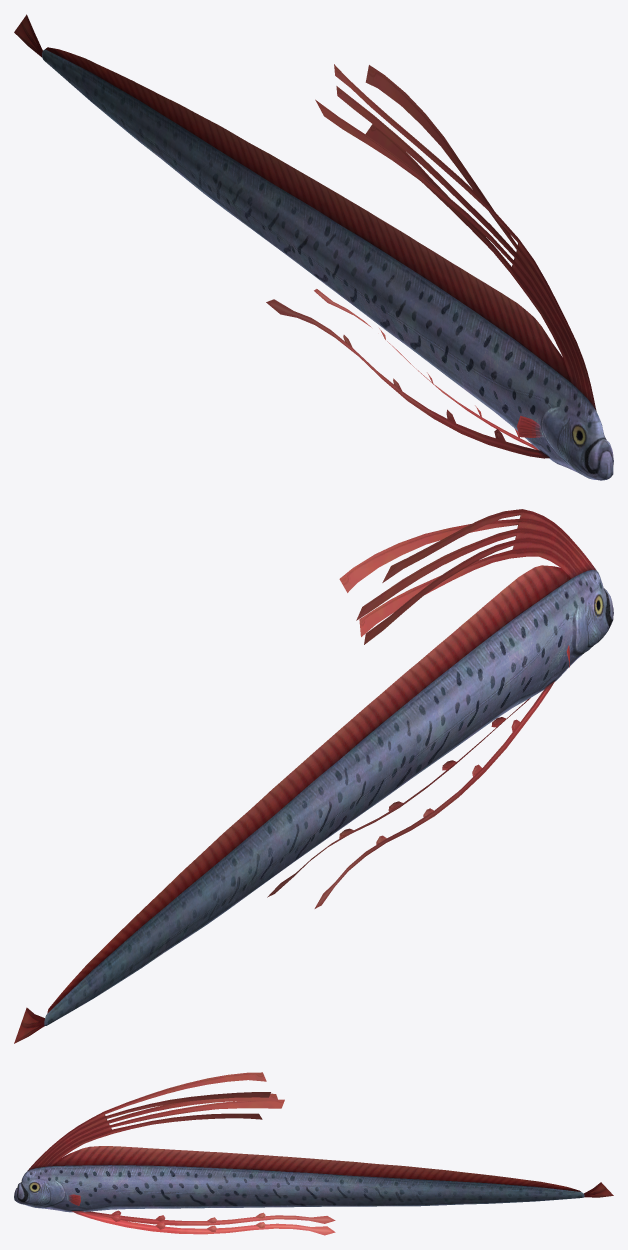
File: FishRyuuguunotukai.glb
3 views of the same model, one above another, from view 1: azimuth 30°, elevation 25°; view 2: azimuth 150°, elevation 25°; view 3: azimuth 270°, elevation 25° (orthographic). The views are drawn at different scales.
Parts seen in each view (by area): view 1: FishRyuuguunotukai__mRyuuguunotukai; view 2: FishRyuuguunotukai__mRyuuguunotukai; view 3: FishRyuuguunotukai__mRyuuguunotukai.
Part boxes in pixels (x1,y1,x2,y2): FishRyuuguunotukai__mRyuuguunotukai: (14, 14, 613, 480); FishRyuuguunotukai__mRyuuguunotukai: (14, 509, 613, 1043); FishRyuuguunotukai__mRyuuguunotukai: (14, 1072, 613, 1235).
Bounding box in the file's own units: 1.95 × 9.67 × 35.1.
1 material, 1 textured.
